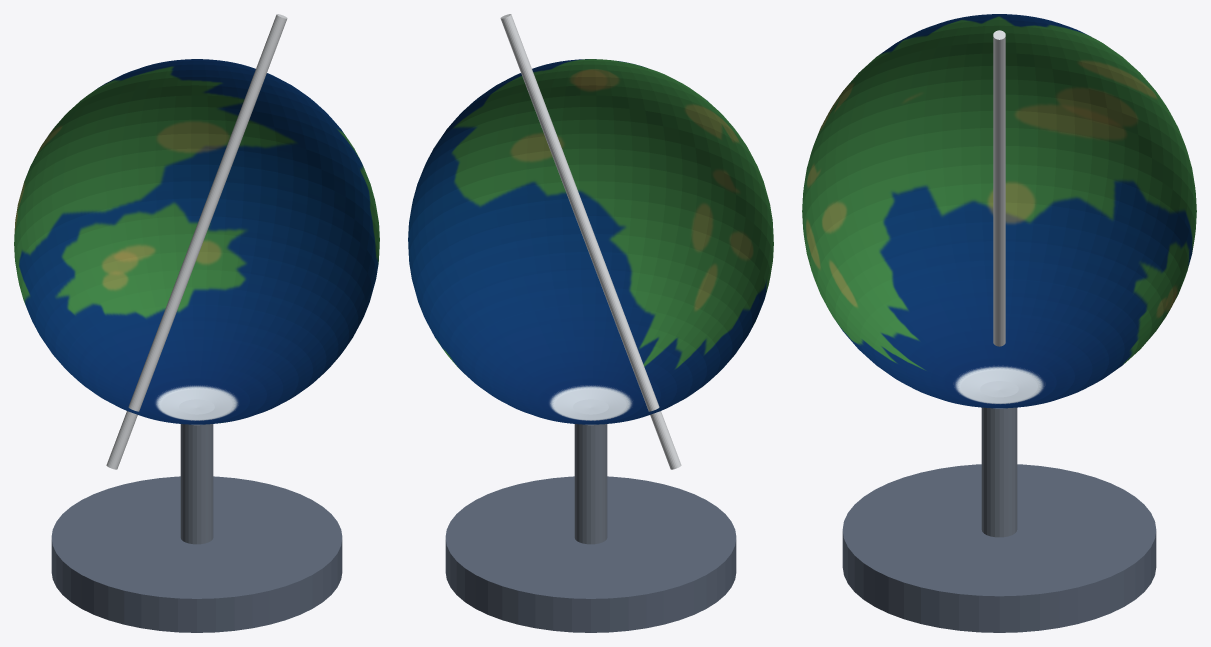
Rendered from classroom_globe.glb.
3 renders of one model, left to right at view 1: azimuth 30°, elevation 25°; view 2: azimuth 150°, elevation 25°; view 3: azimuth 270°, elevation 25°, orthographic. The views are drawn at different scales.
Visible parts, largest first — view 1: GlobeSphere, GlobeBase, EarthAxis, GlobePost; view 2: GlobeSphere, GlobeBase, EarthAxis, GlobePost; view 3: GlobeSphere, GlobeBase, GlobePost, EarthAxis.
Part boxes in pixels (bbox=[...]): GlobeSphere: bbox=[14, 59, 379, 424]; GlobeBase: bbox=[51, 476, 342, 632]; EarthAxis: bbox=[106, 14, 287, 469]; GlobePost: bbox=[180, 424, 213, 544]; GlobeSphere: bbox=[408, 59, 773, 424]; GlobeBase: bbox=[445, 476, 736, 632]; EarthAxis: bbox=[500, 14, 681, 469]; GlobePost: bbox=[574, 424, 607, 544]; GlobeSphere: bbox=[802, 14, 1196, 408]; GlobeBase: bbox=[842, 464, 1156, 632]; GlobePost: bbox=[981, 407, 1017, 537]; EarthAxis: bbox=[993, 30, 1005, 346].
Bounding box in the file's own units: 1.56 × 2.52 × 1.56.
1 material, 1 textured.
